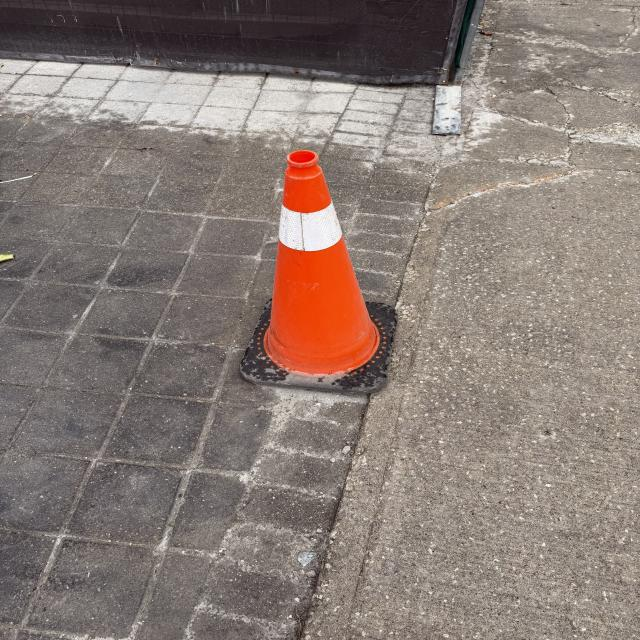Traffic Cone: (240, 148, 398, 395)
